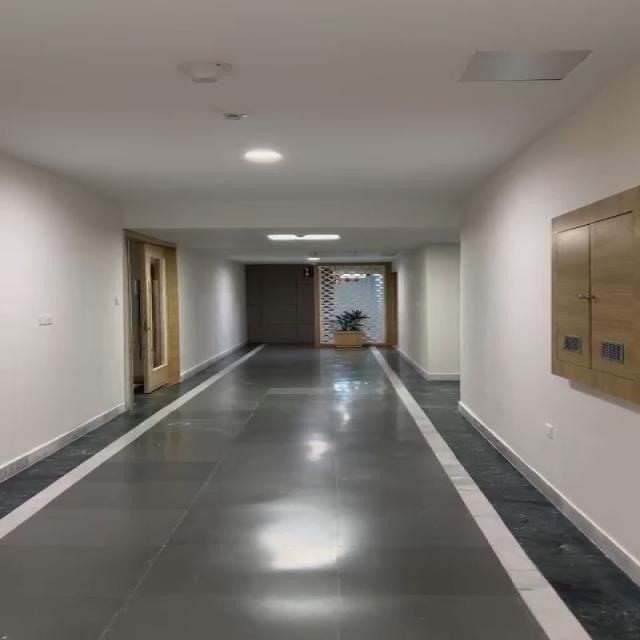door: (542, 216, 640, 395), (232, 258, 406, 355), (115, 226, 193, 402)
floor: (70, 427, 500, 640)
furniture: (332, 308, 371, 354)
wall: (3, 0, 225, 425), (456, 21, 640, 508)
